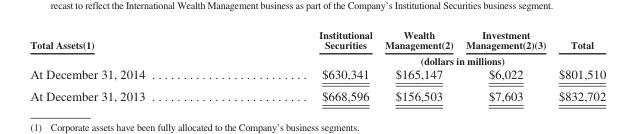table: (29, 28, 605, 102)
table column: (29, 28, 231, 102), (231, 28, 377, 102), (458, 28, 551, 102), (377, 28, 458, 102), (551, 28, 605, 102)
table column header: (29, 28, 605, 66)
table row: (29, 28, 605, 52), (29, 66, 605, 84), (29, 84, 605, 102), (29, 52, 605, 66)
table spanning cell: (29, 28, 231, 66), (231, 52, 605, 66)
